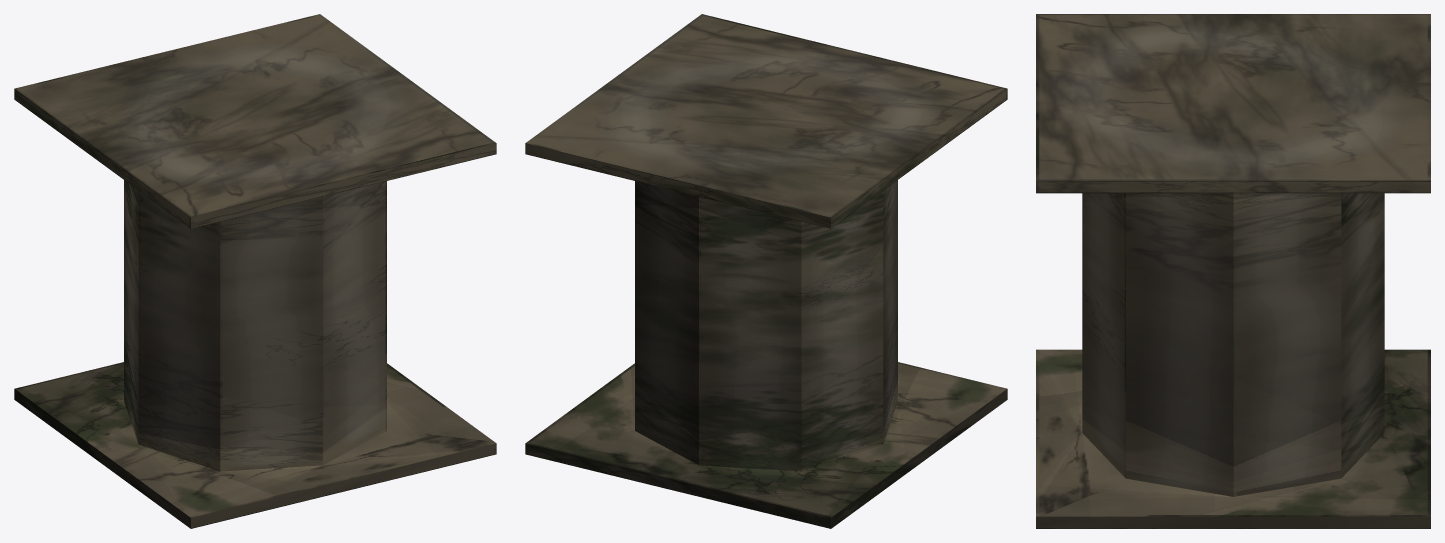
File: Pillar.glb
3 views of the same model, side by side, from view 1: azimuth 30°, elevation 25°; view 2: azimuth 150°, elevation 25°; view 3: azimuth 270°, elevation 25° (orthographic). The views are drawn at different scales.
Visible parts, largest first — view 1: Cube.001; view 2: Cube.001; view 3: Cube.001.
Part boxes in pixels (x1,y1,x2,y2): Cube.001: (14,14,496,528); Cube.001: (525,14,1007,528); Cube.001: (1036,14,1430,528).
Bounding box in the file's own units: 1 × 0.9734 × 1.
1 material, 1 textured.
